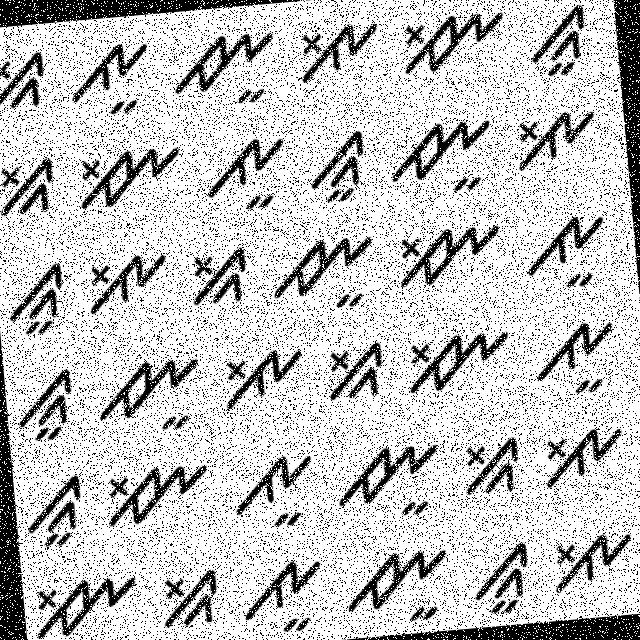ah: (512, 212, 619, 300), (198, 123, 294, 220), (225, 442, 322, 536), (521, 316, 622, 406), (64, 30, 156, 124), (234, 553, 327, 639)
nggah: (10, 362, 89, 452), (298, 122, 373, 215), (520, 0, 599, 86), (1, 251, 71, 348), (18, 468, 90, 555), (466, 535, 536, 620)
nggo: (180, 230, 257, 324), (144, 563, 228, 639), (316, 333, 391, 416), (454, 428, 524, 508), (0, 150, 61, 223), (0, 41, 50, 117)
njah: (158, 15, 288, 120), (377, 105, 500, 212), (90, 341, 210, 444), (328, 428, 450, 528), (265, 224, 382, 319), (338, 541, 456, 629)
njo: (389, 0, 514, 91), (93, 455, 221, 538), (68, 133, 190, 220), (398, 318, 516, 406), (25, 559, 143, 639), (390, 218, 504, 292)
o: (530, 408, 632, 506), (535, 517, 639, 610), (500, 87, 600, 177), (214, 332, 308, 420), (78, 243, 174, 329), (292, 12, 383, 102)
